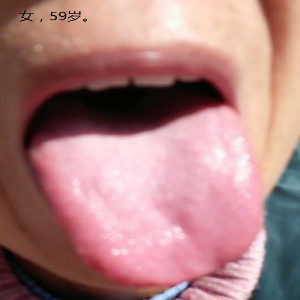st: (32, 88, 261, 288)
